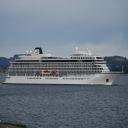cruises: (3, 43, 128, 90)
